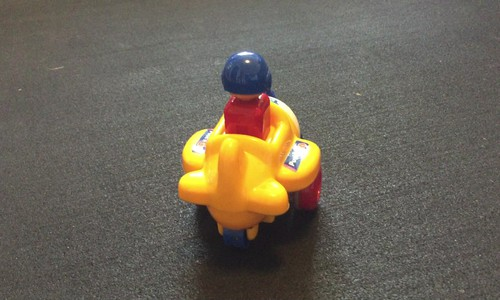toy: (184, 50, 334, 251)
